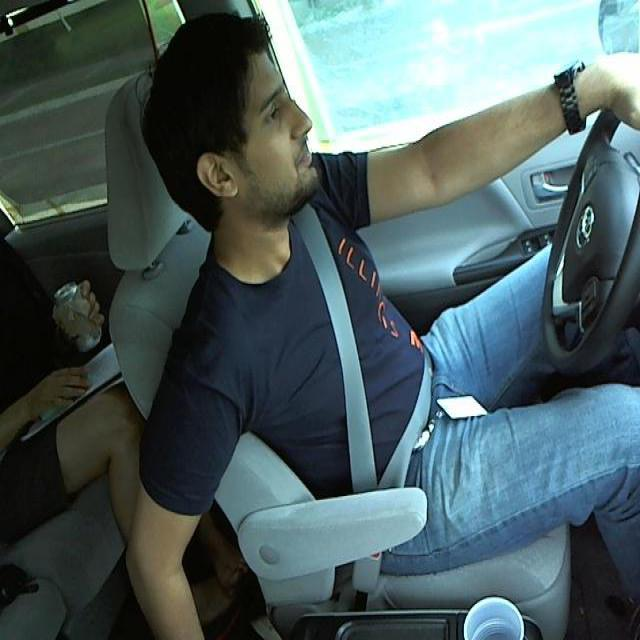seatbelt: (290, 227, 445, 484)
